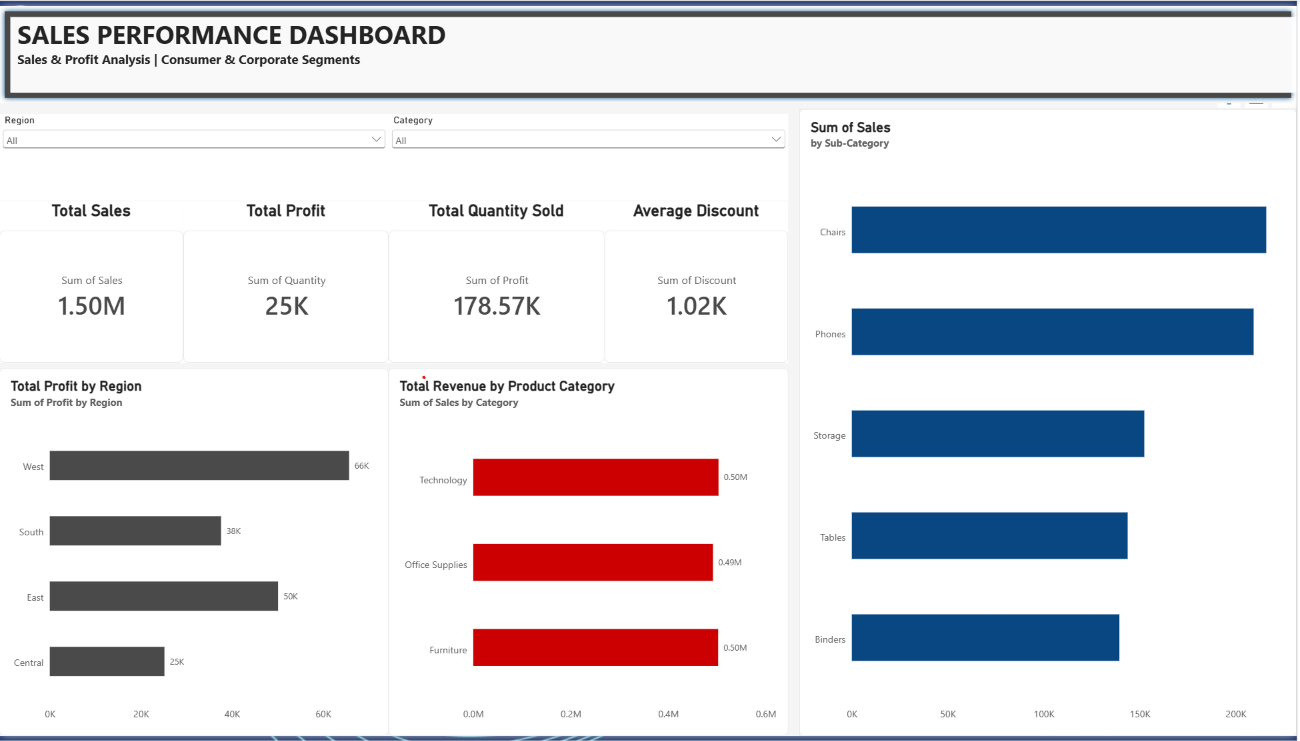

The page's visual inventory and layout, read from the dashboard file:
{"tool":"powerbi","page":{"name":"01 - Sales Overview","canvas":[1920,1080],"ordinal":0},"visuals":[{"type":"cardVisual","title":"Total Sales","fields":{"Data":["Sum(Superstore - Dataset.Sales)"]},"box":[0,288,272,240],"z":0},{"type":"cardVisual","title":"Total Quantity Sold","fields":{"Data":["Sum(Superstore - Dataset.Profit)"]},"box":[576,288,320,240],"z":1000},{"type":"cardVisual","title":"Total Profit","fields":{"Data":["Sum(Superstore - Dataset.Quantity)"]},"box":[272,288,304,240],"z":2000},{"type":"cardVisual","title":"Average Discount","fields":{"Data":["Sum(Superstore - Dataset.Discount)"]},"box":[896,288,272,240],"z":3000},{"type":"clusteredBarChart","title":"Total Revenue by Product Category","fields":{"Category":["Superstore - Dataset.Category"],"Y":["Sum(Superstore - Dataset.Sales)"]},"box":[576,536,592,544],"z":4000},{"type":"clusteredBarChart","title":"Total Profit by Region","fields":{"Category":["Superstore - Dataset.Region"],"Y":["Sum(Superstore - Dataset.Profit)"]},"box":[0,536,576,544],"z":5000},{"type":"slicer","fields":{"Values":["Superstore - Dataset.Region"]},"box":[0,160,576,128],"z":6000},{"type":"slicer","fields":{"Values":["Superstore - Dataset.Category"]},"box":[576,160,592,128],"z":7000},{"type":"clusteredBarChart","fields":{"Category":["Superstore - Dataset.Sub-Category"],"Y":["Sum(Superstore - Dataset.Sales)"]},"box":[1184,152,736,928],"z":8000},{"type":"shape","box":[0,0,1920,144],"z":8001},{"type":"textbox","box":[16,16,1904,112],"z":8002}]}

Visuals, with their boxes in screenshot pixels (x1, y1, x2, y2), scaled from the page's 1920x1080 canvas onto the 1300x741 screenshot:
"Total Sales" cardVisual: Rect(0, 198, 184, 362)
"Total Quantity Sold" cardVisual: Rect(390, 198, 607, 362)
"Total Profit" cardVisual: Rect(184, 198, 390, 362)
"Average Discount" cardVisual: Rect(607, 198, 791, 362)
"Total Revenue by Product Category" clusteredBarChart: Rect(390, 368, 791, 740)
"Total Profit by Region" clusteredBarChart: Rect(0, 368, 390, 740)
slicer - Superstore - Dataset.Region: Rect(0, 110, 390, 198)
slicer - Superstore - Dataset.Category: Rect(390, 110, 791, 198)
clusteredBarChart - Superstore - Dataset.Sub-Category x Sum(Superstore - Dataset.Sales): Rect(802, 104, 1299, 740)
shape: Rect(0, 0, 1299, 99)
textbox: Rect(11, 11, 1299, 88)
